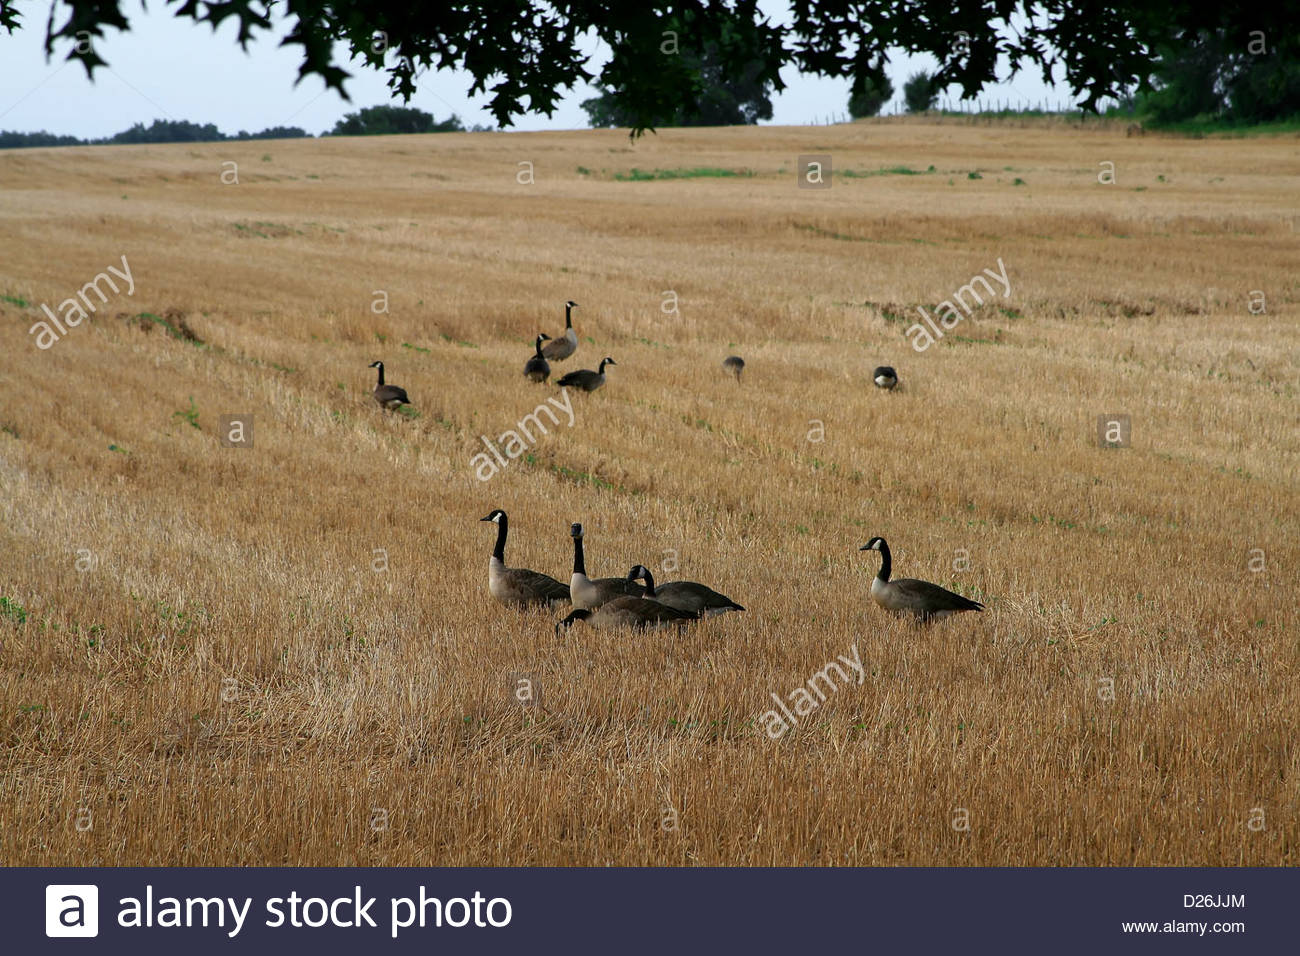goose: (860, 533, 987, 640), (480, 505, 566, 608), (625, 560, 745, 617), (556, 598, 698, 643), (567, 516, 638, 603), (365, 359, 416, 412), (548, 299, 582, 360), (559, 354, 620, 388), (522, 331, 550, 385), (867, 364, 903, 391)
